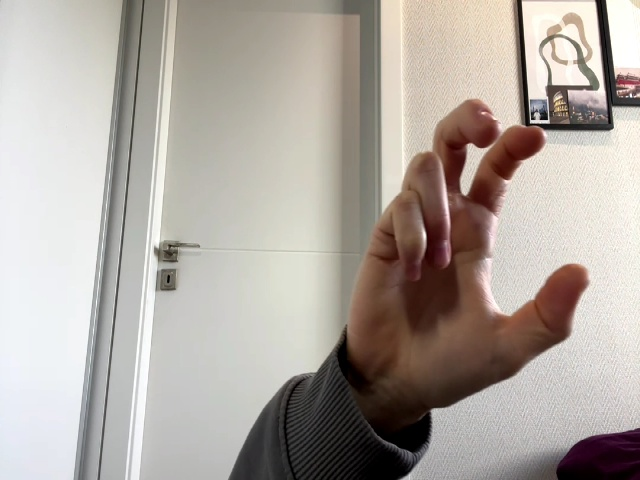CH: (348, 100, 592, 401)
